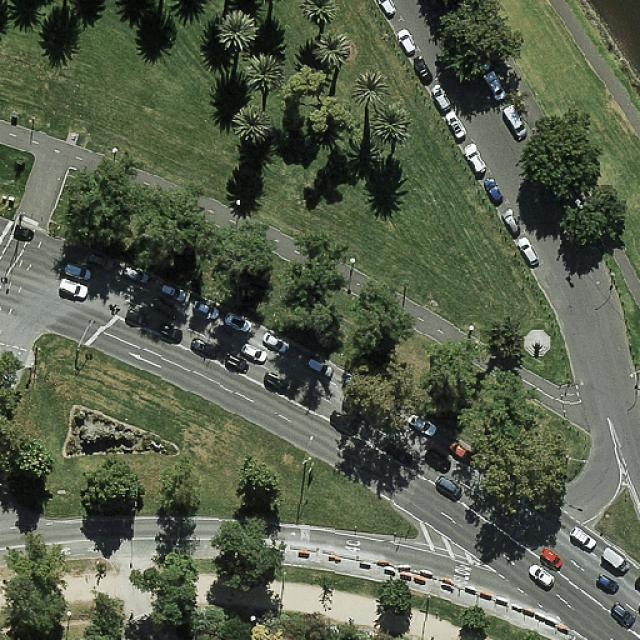Bike-Symbols: (86, 545, 99, 553), (60, 547, 72, 555)
